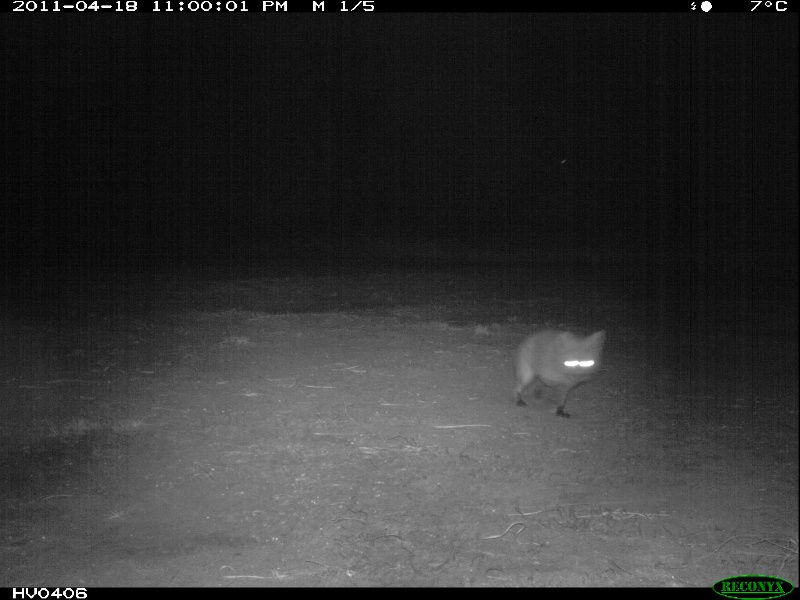fox: (508, 321, 611, 417)
